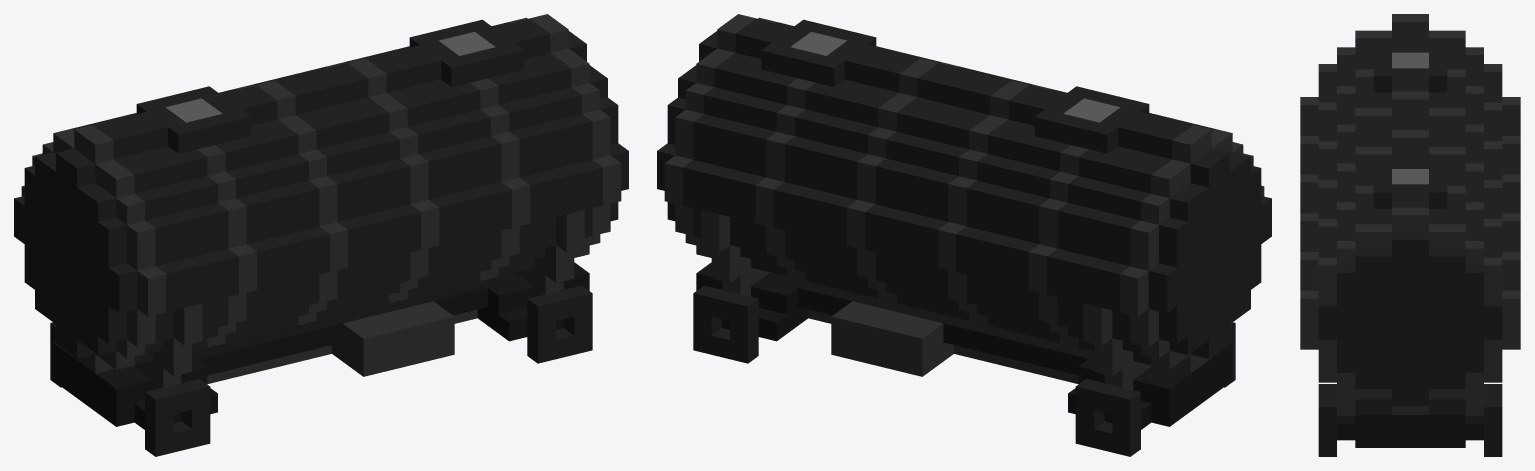
Rendered from prop_train_cart_Tank.obj.
The picture shows the model from 3 angles, left to right: view 1: azimuth 30°, elevation 25°; view 2: azimuth 150°, elevation 25°; view 3: azimuth 270°, elevation 25°; orthographic projection. The views are drawn at different scales.
Bounding box in the file's own units: 2.8 × 1.5 × 1.2.
1 material, 1 textured.
